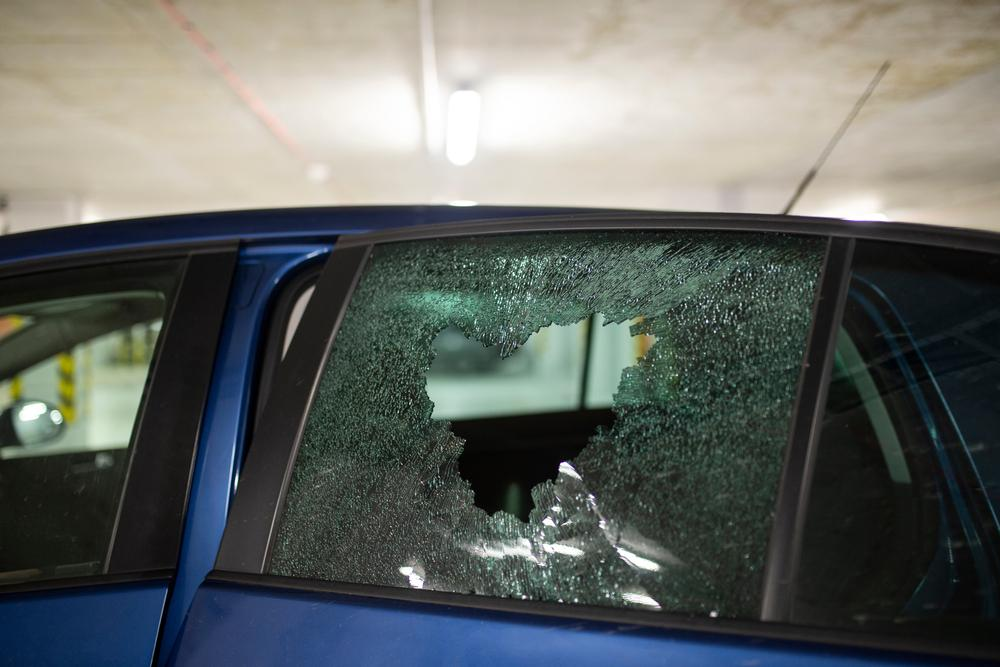glass shatter: (269, 230, 829, 619)
